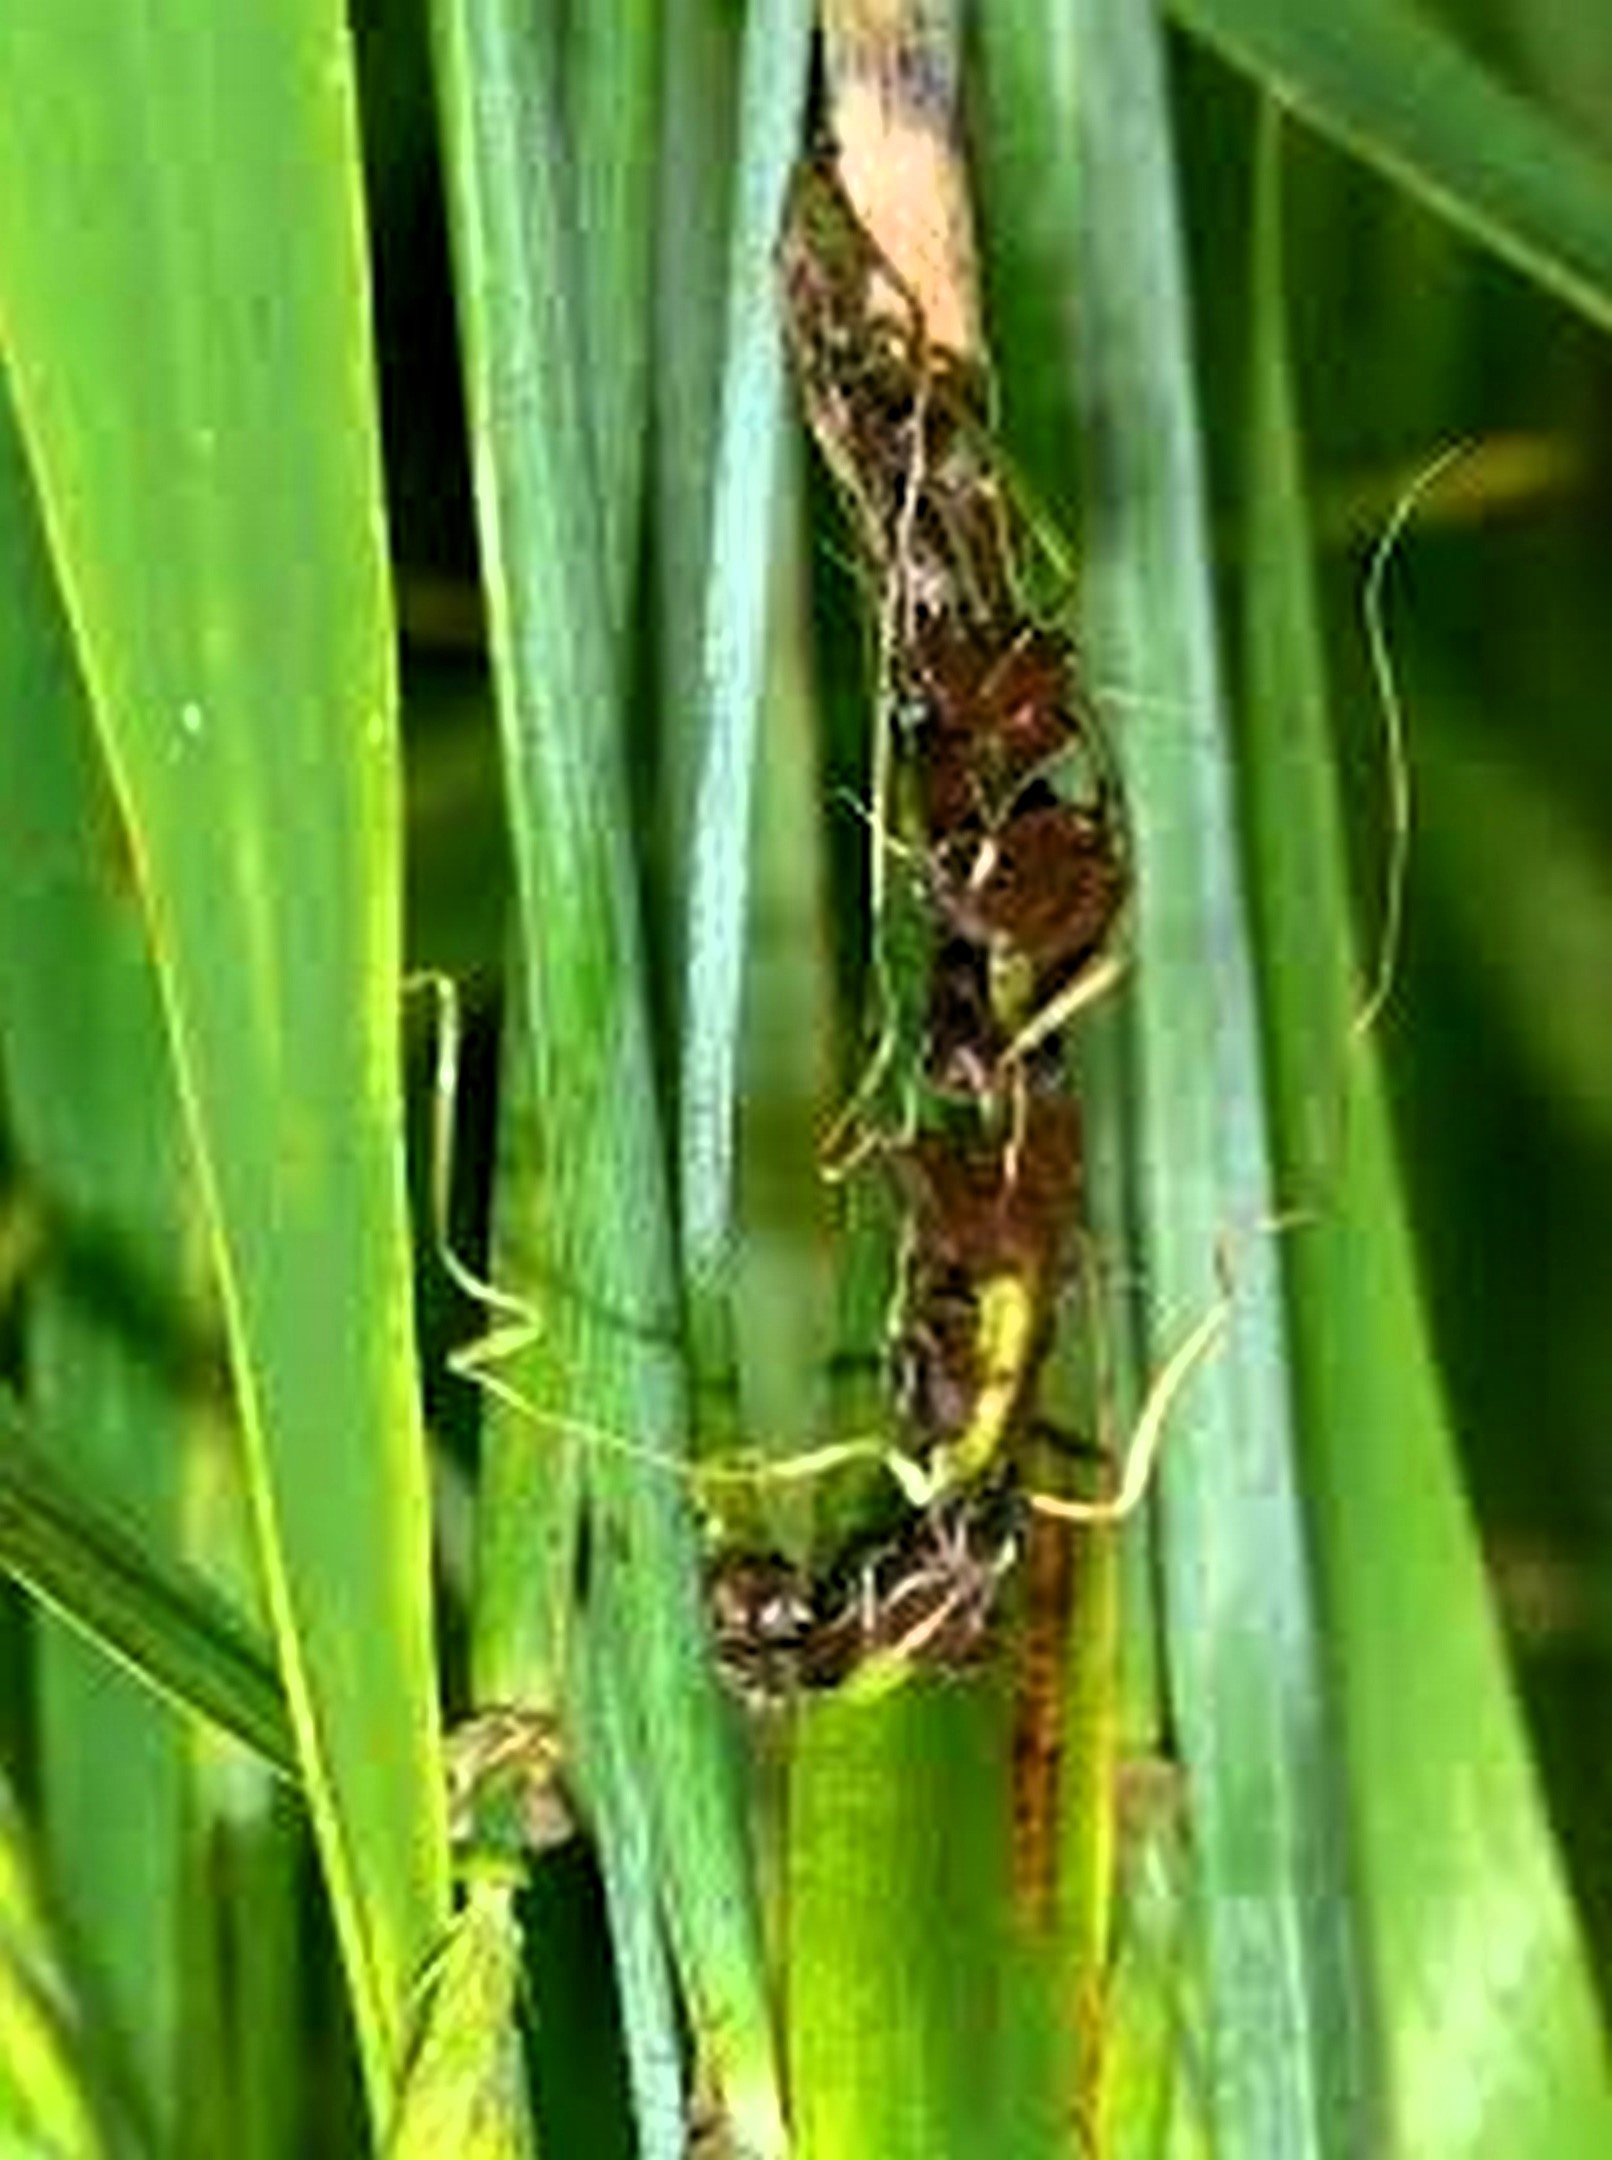Wheat Loose Smut: (723, 621, 1202, 1766)
